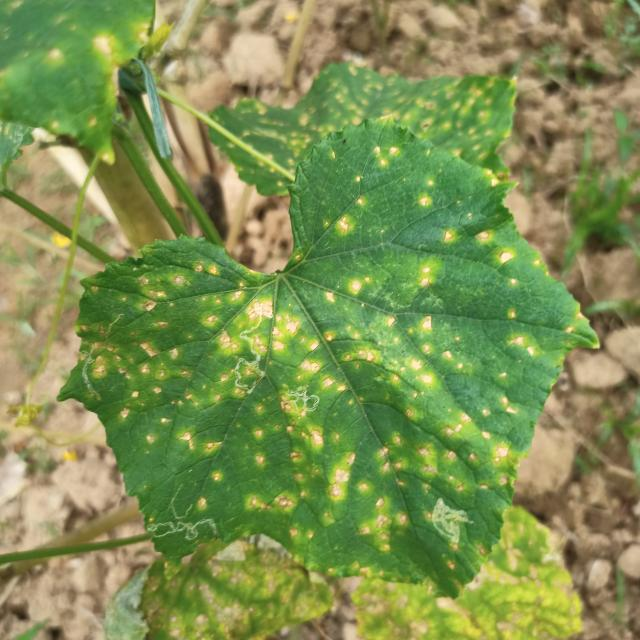disease_cucumber: (69, 263, 558, 572), (478, 230, 518, 266), (335, 194, 365, 242), (371, 141, 408, 173), (416, 180, 442, 212), (439, 226, 458, 250)
